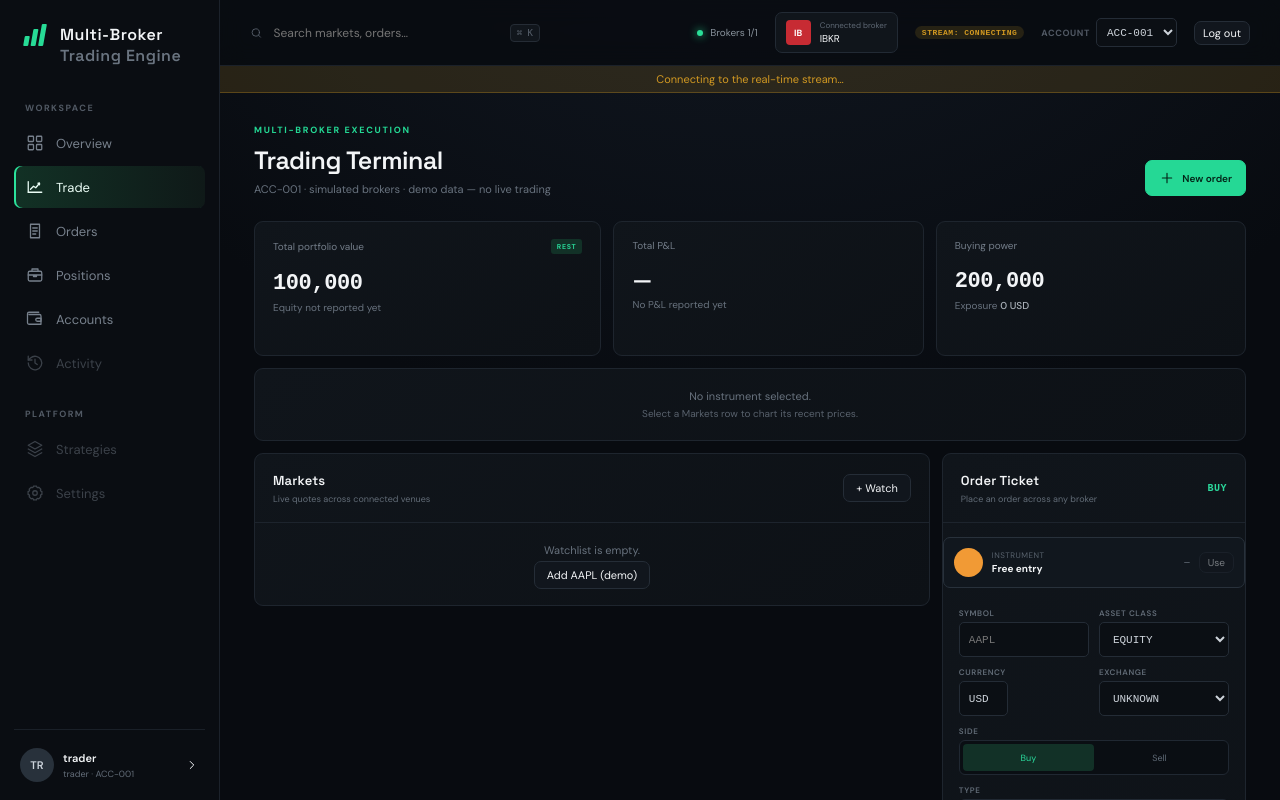
Test: App (trading terminal) › switches views through the sidebar (Positions, Overview, Trade, Accounts)
Click the button "Positions".
click(110, 275)  # box [14, 254, 205, 296]
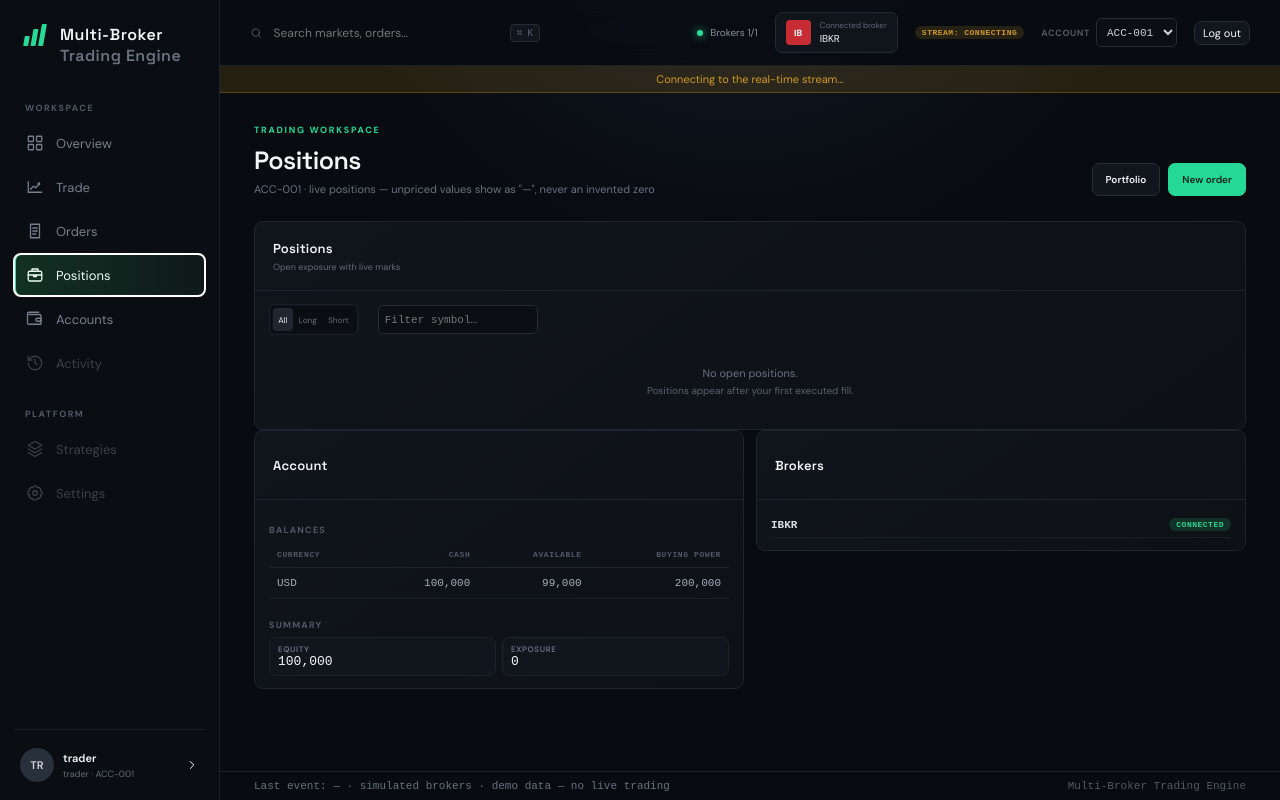
Check: the heading "Positions" below "Trading workspace" is shown, box [254, 144, 361, 176]
Click the button "Overview".
click(110, 143)  # box [14, 122, 205, 164]
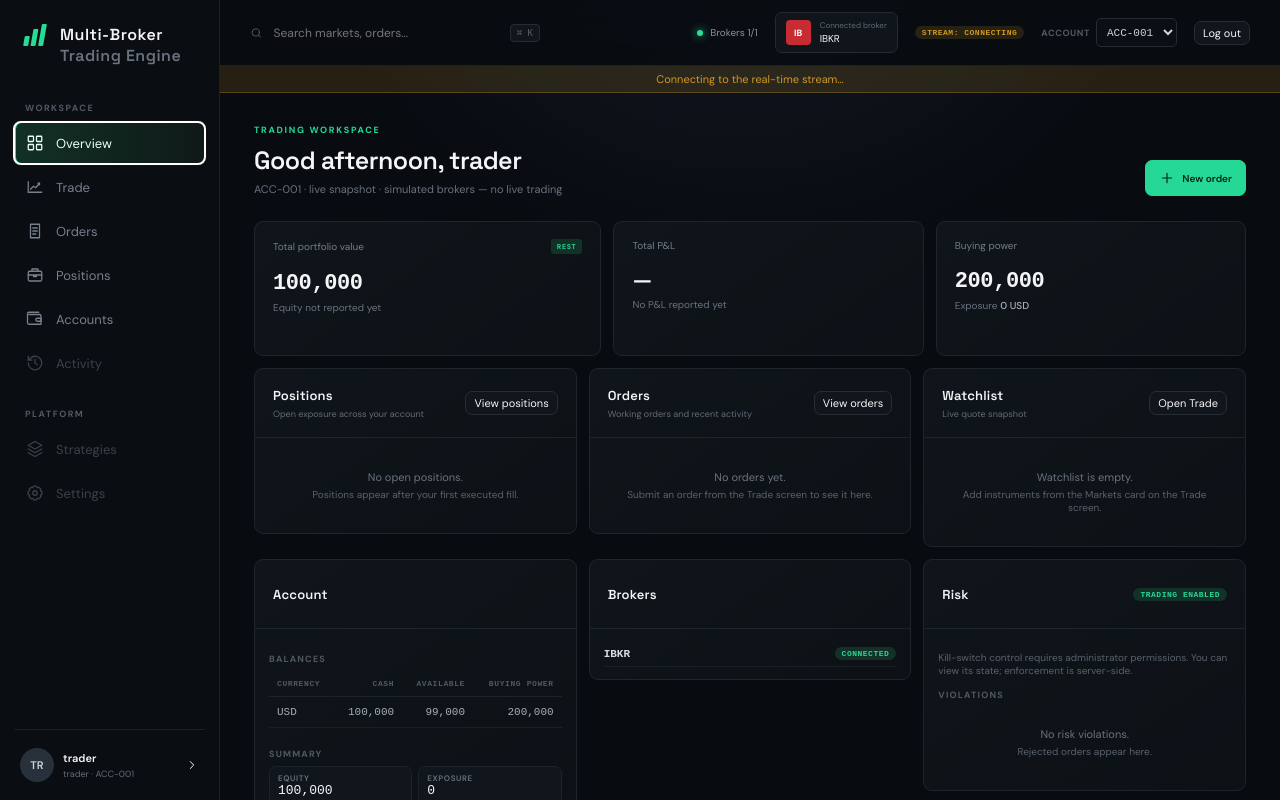
Check: the heading "Good afternoon, trader" is shown, box [254, 144, 562, 176]
Click the button "Trade".
click(110, 187)  # box [14, 166, 205, 208]
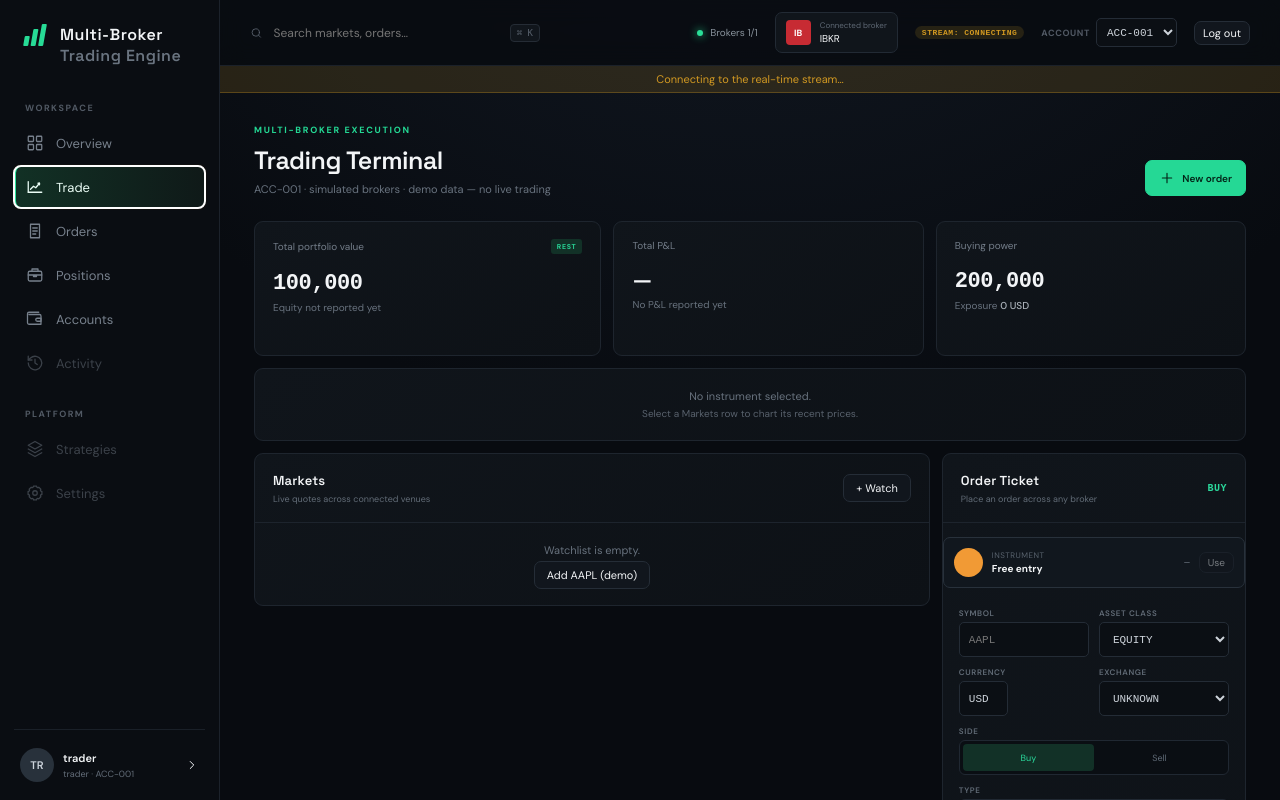
Check: the heading "Trading Terminal" is shown, box [254, 144, 443, 176]
Click the button "Accounts".
click(110, 319)  # box [14, 298, 205, 340]
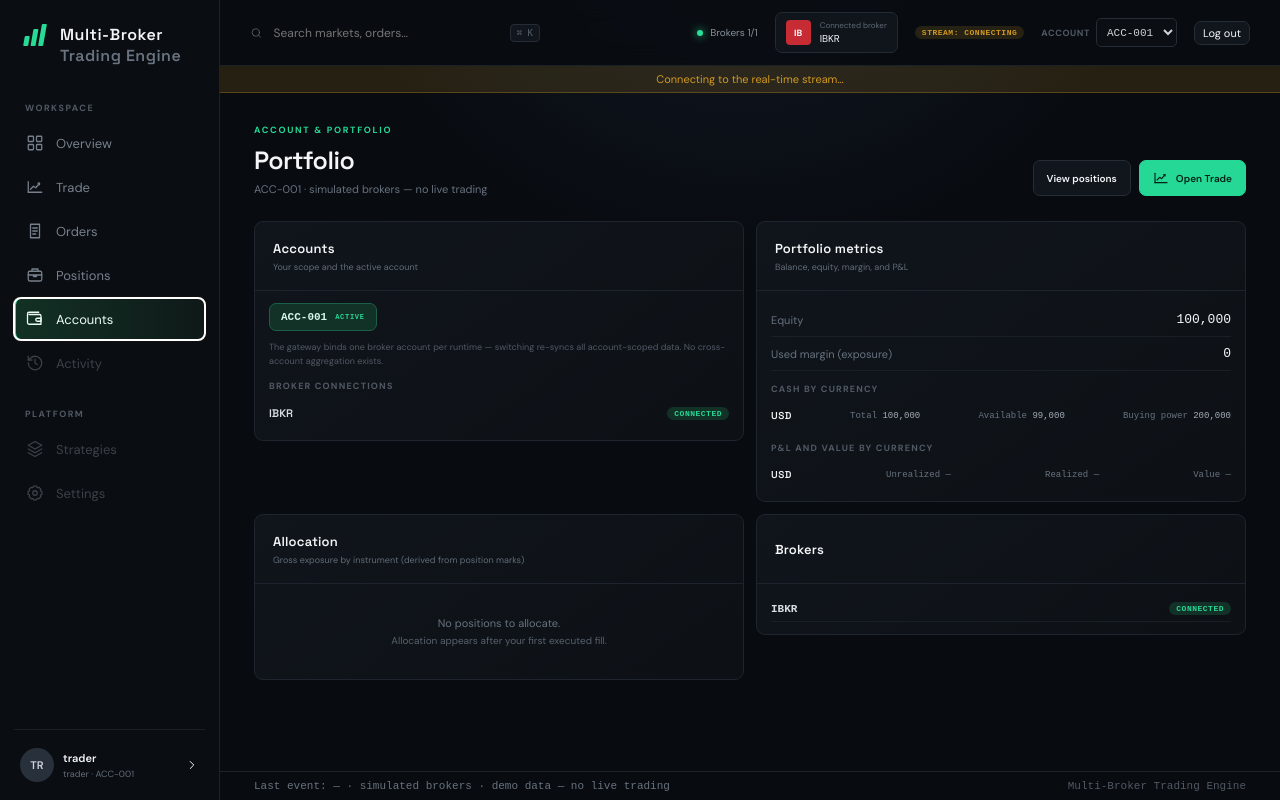
Check: the heading "Portfolio" is shown, box [254, 144, 354, 176]
